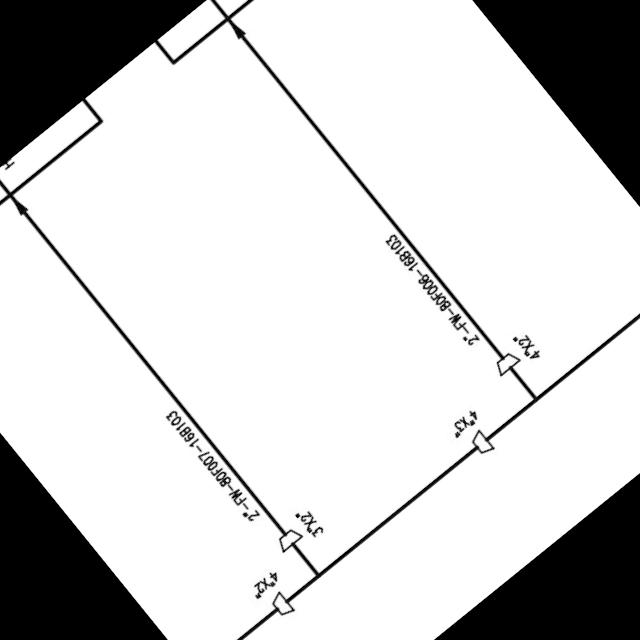SP: (270, 524, 306, 558), (266, 590, 299, 624), (488, 348, 523, 380), (466, 428, 498, 462)
